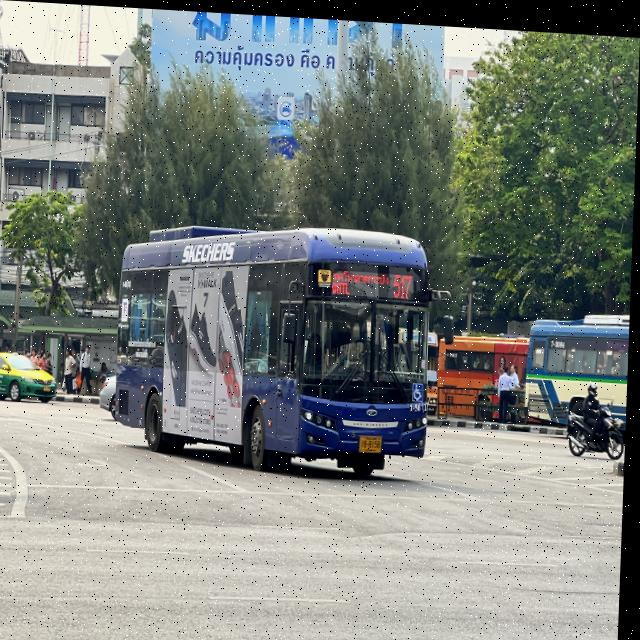Bus-Line-Number: (393, 266, 419, 297)
Destination-Sign-Normal: (329, 264, 392, 294)
TSB-Bus: (104, 214, 438, 477)
